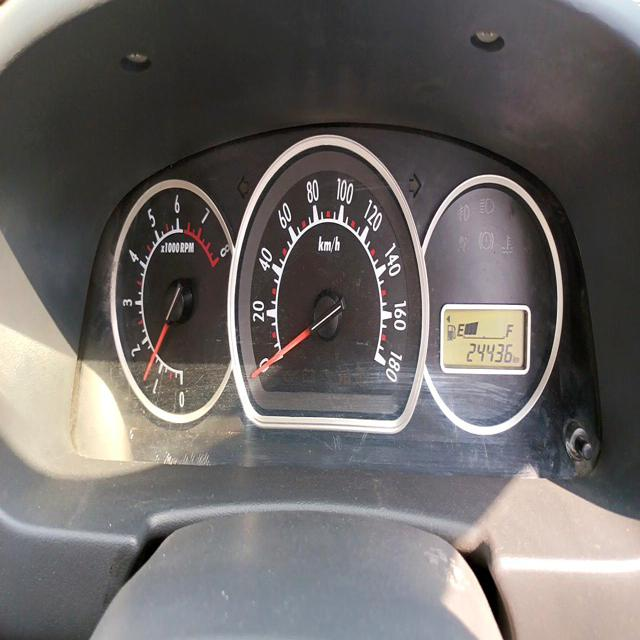odometer: (463, 340, 512, 366)
